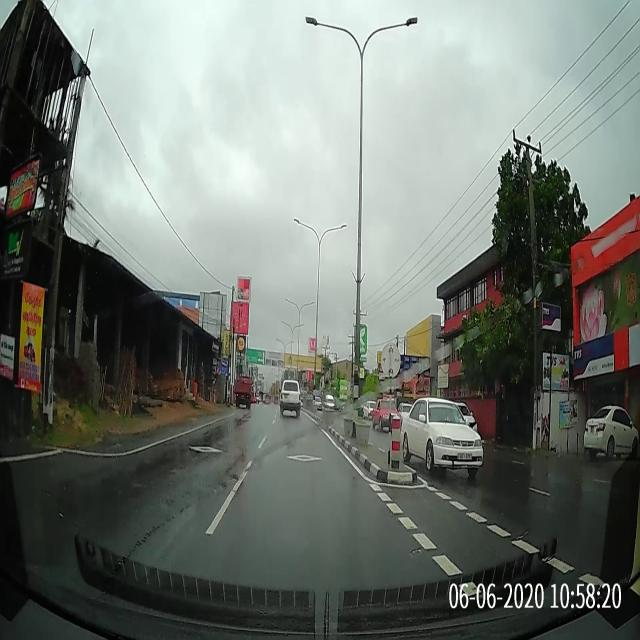diamond: (244, 441, 360, 466)
